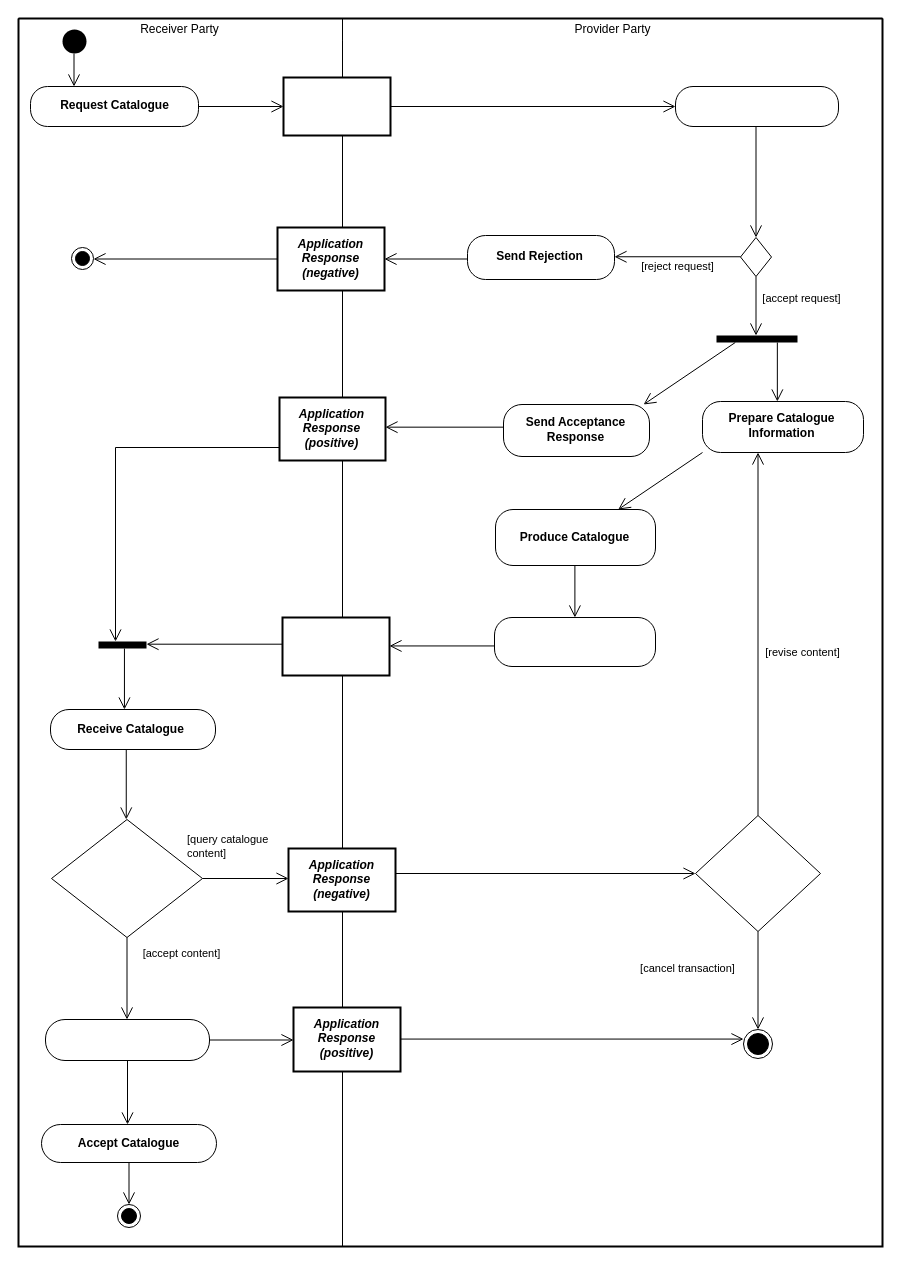
Image size: 900x1264. Some labels were removed from this diagram. Each missing label, with the box of its shape:
Acknowledge Acceptance: (44, 1018, 210, 1060)
Catalogue: (281, 616, 390, 676)
Catalogue Request: (282, 76, 391, 136)
Decide on Action: (694, 814, 820, 932)
Distribute Catalogue: (494, 616, 656, 666)
Respond to Request: (674, 86, 838, 126)
Review Catalogue Content: (50, 818, 202, 938)
